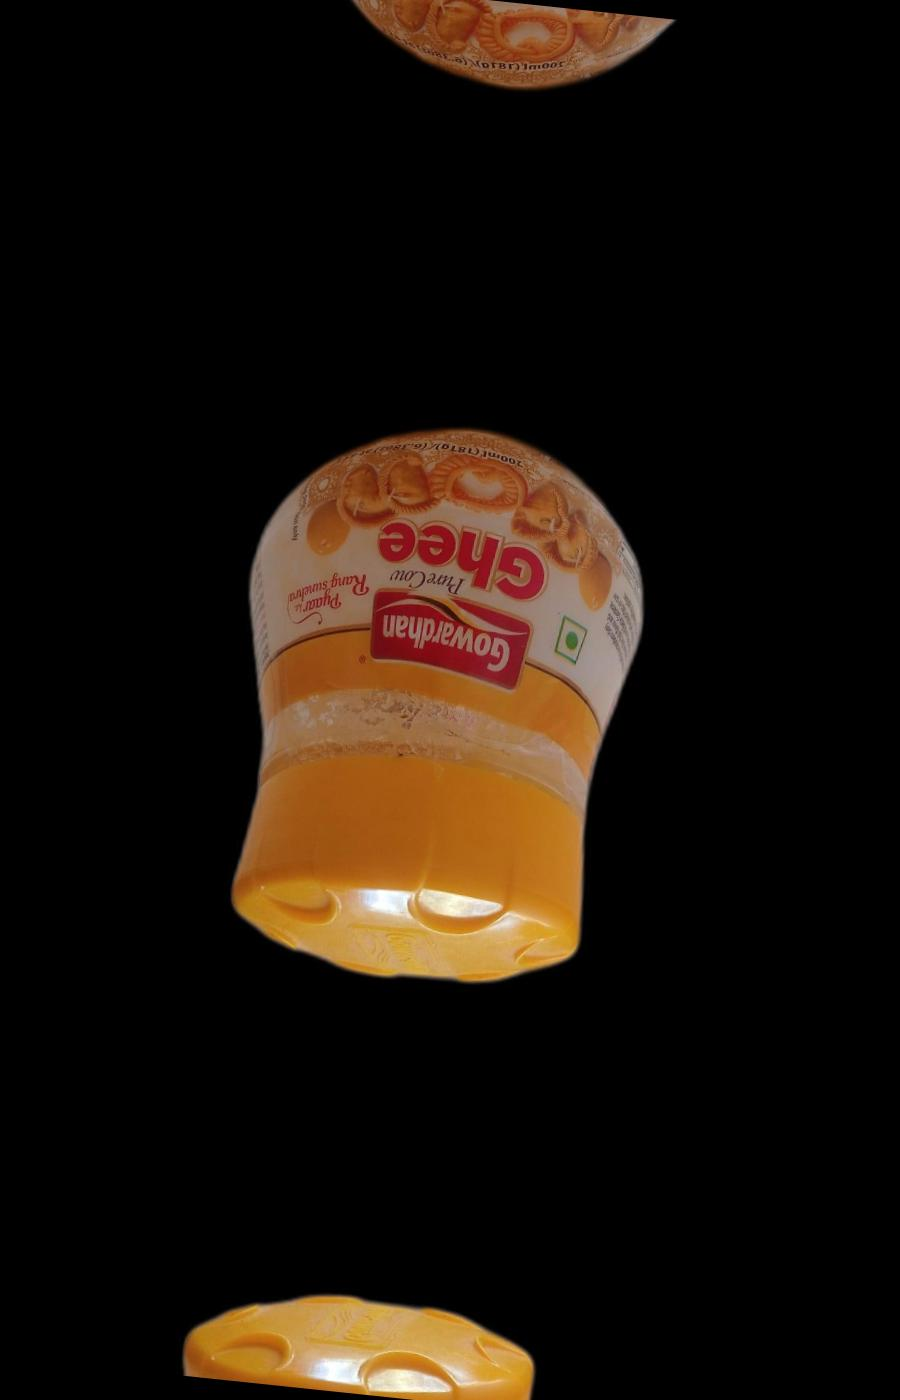Govardhan Pure cow Ghee -200ml-: (195, 403, 658, 1003)
